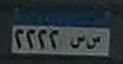2: (37, 28, 49, 49), (50, 28, 60, 50), (15, 28, 25, 50), (27, 29, 36, 49)
seen: (86, 34, 101, 49), (70, 35, 85, 49)
